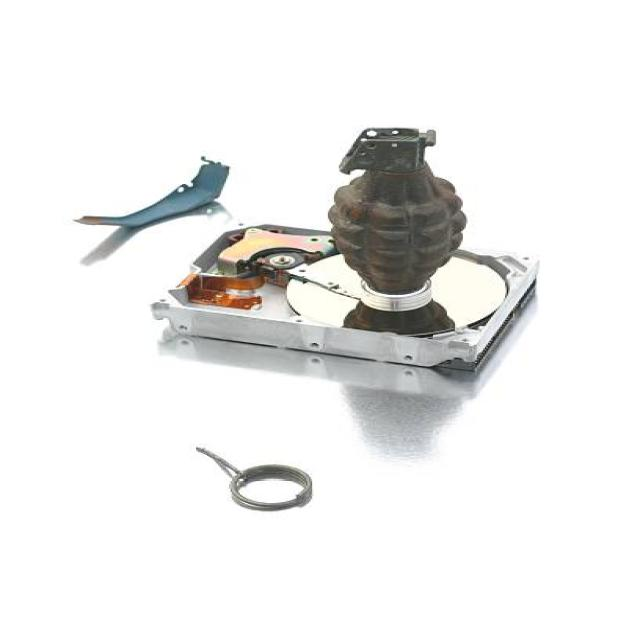grenade: (332, 122, 473, 293)
